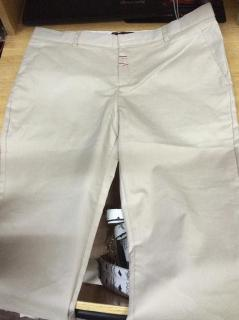trousers: (0, 2, 239, 319)
